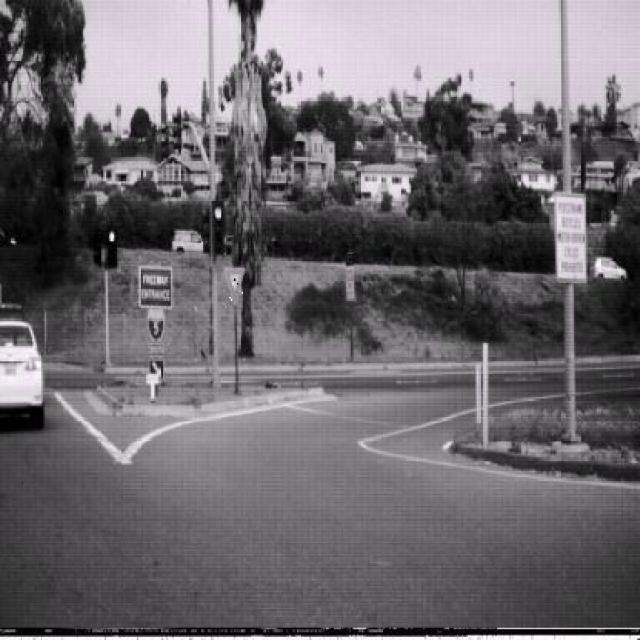yield: (223, 266, 245, 305)
